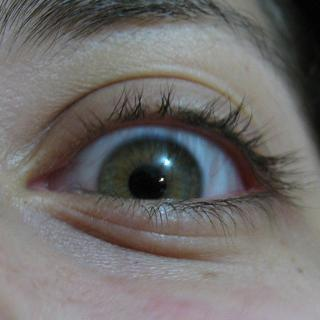pupil: (128, 165, 166, 203)
